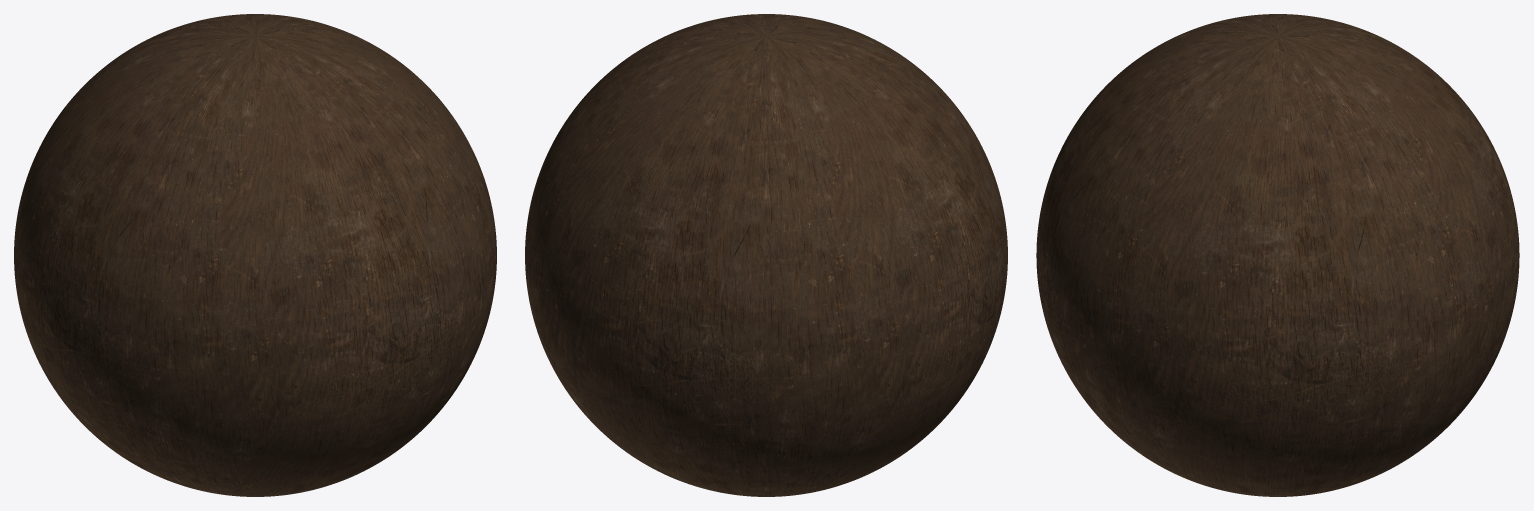
Rendered from fine_grained_wood_2k.gltf.
The picture shows the model from 3 angles, left to right: view 1: azimuth 30°, elevation 25°; view 2: azimuth 150°, elevation 25°; view 3: azimuth 270°, elevation 25°; orthographic projection.
Parts seen in each view (by area): view 1: sphere_gltf; view 2: sphere_gltf; view 3: sphere_gltf.
Part boxes in pixels (box(x1,y1,x2,y2)): sphere_gltf: box(14, 14, 496, 496); sphere_gltf: box(525, 14, 1007, 496); sphere_gltf: box(1036, 14, 1519, 496).
Size of the model in its own units: 0.6 by 0.6 by 0.6.
Materials: 1 (1 with a texture image).
